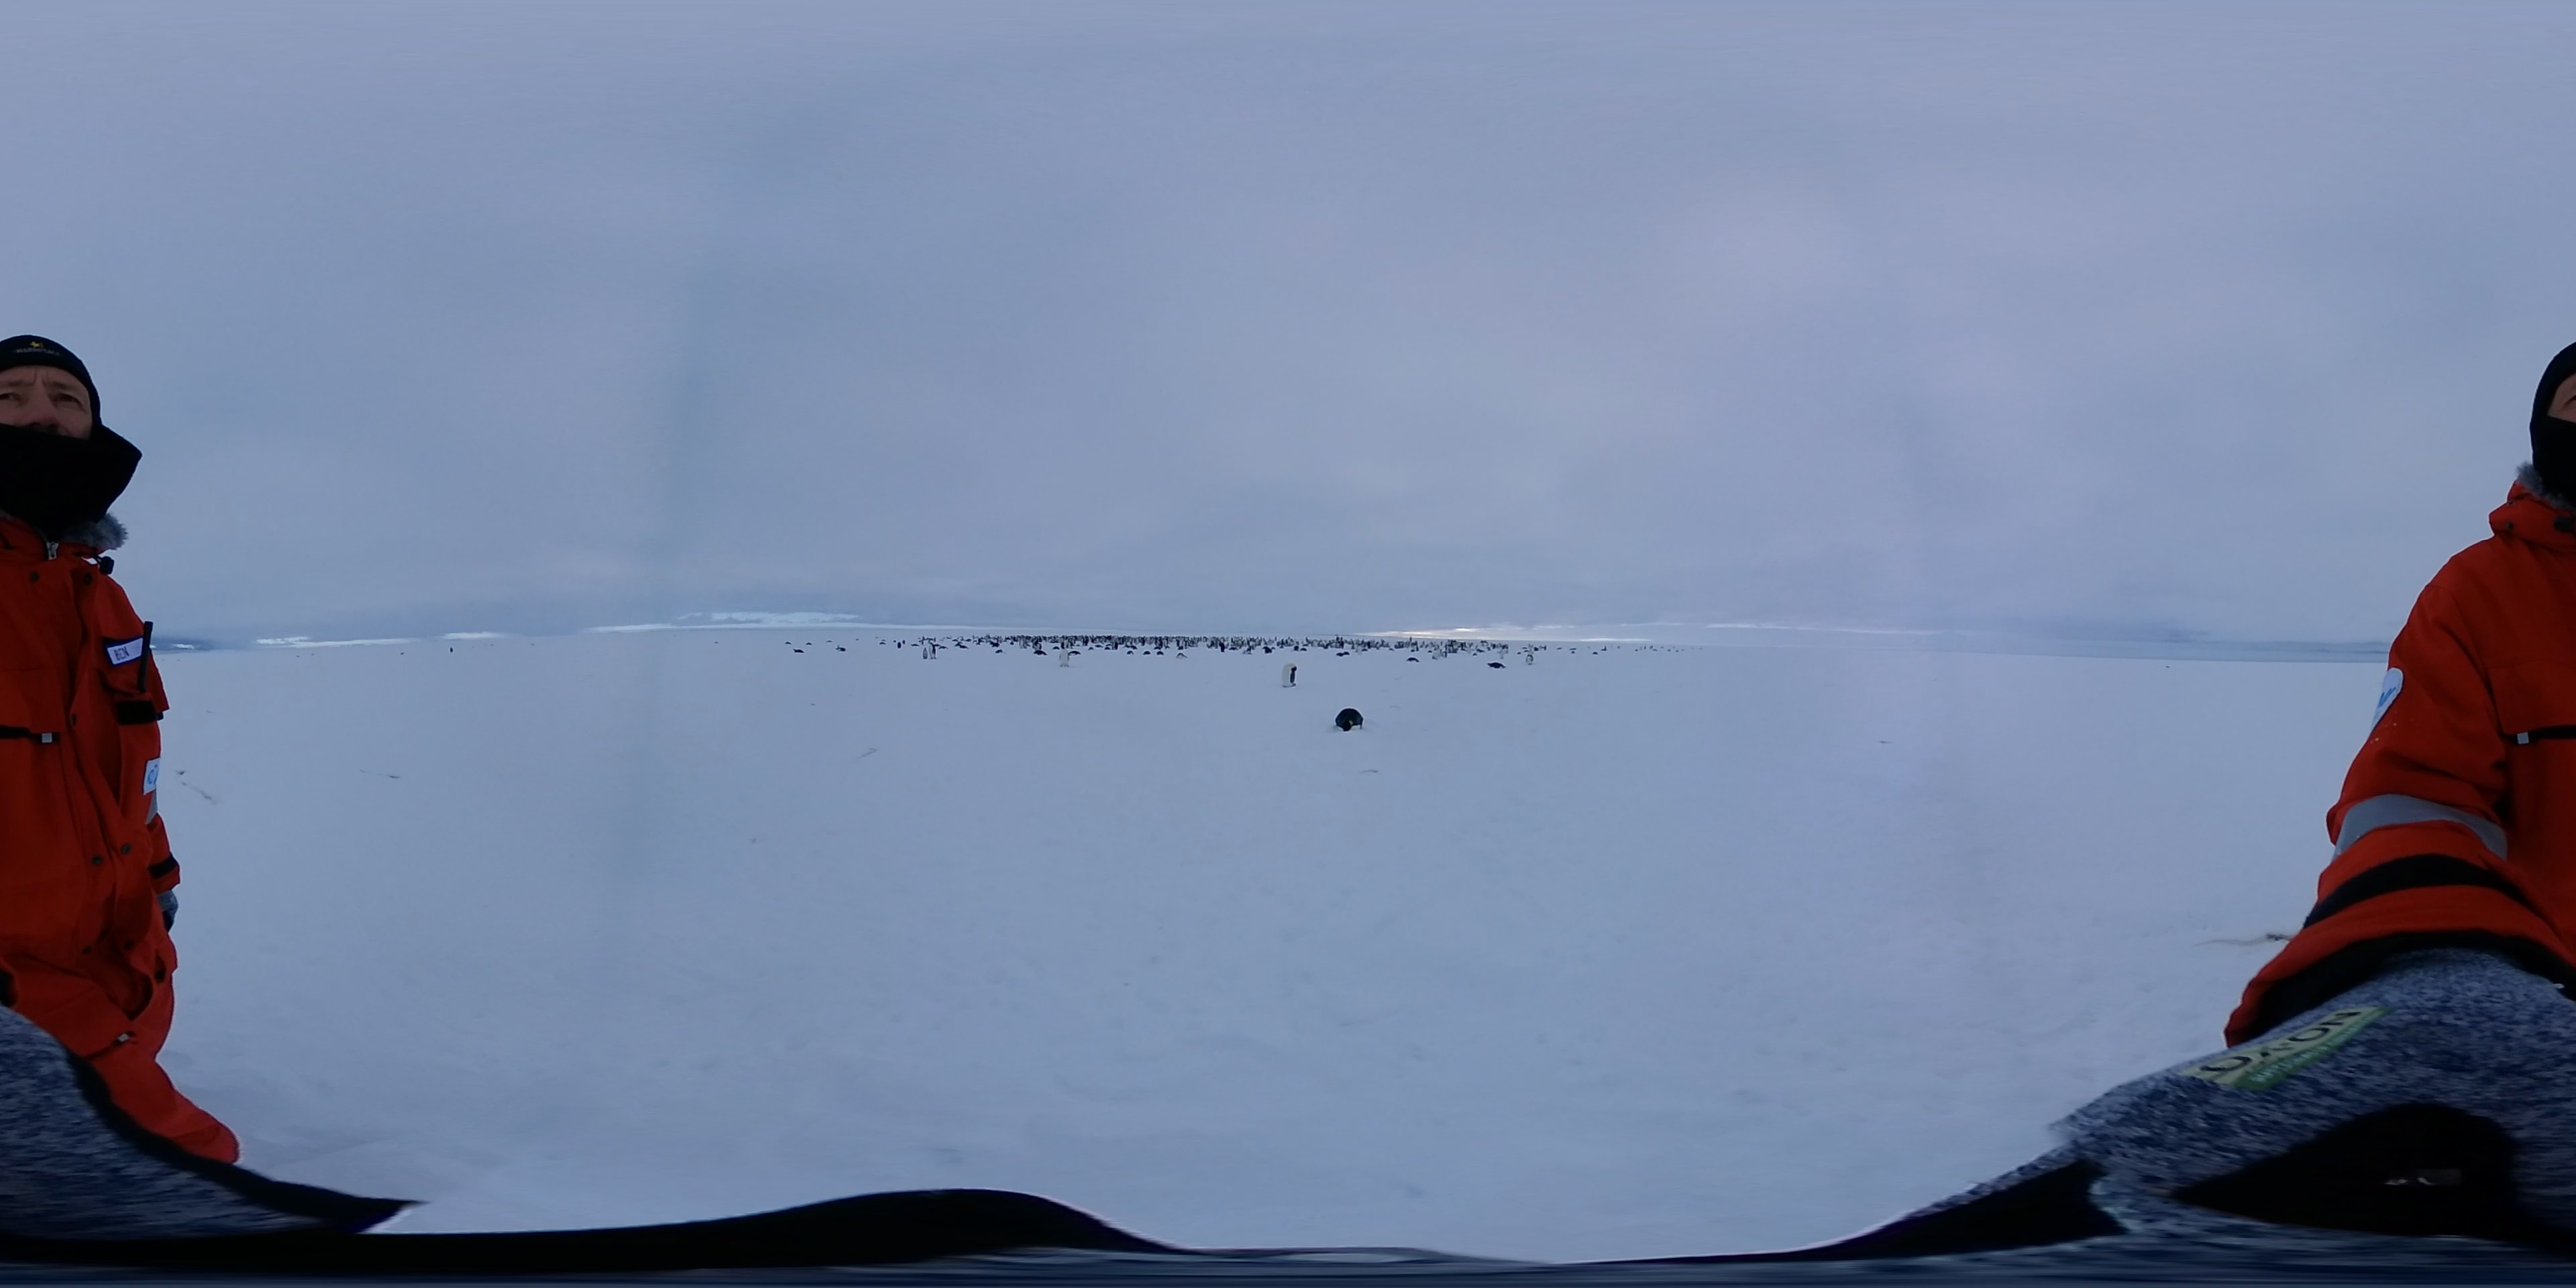adult_standing_penguin: (1281, 660, 1295, 690), (928, 642, 938, 662)
adult_toboggan_penguin: (1332, 706, 1368, 734)
juvenile_penguin: (920, 647, 930, 662)
researcher: (2221, 307, 2576, 1168), (0, 319, 184, 1219)
